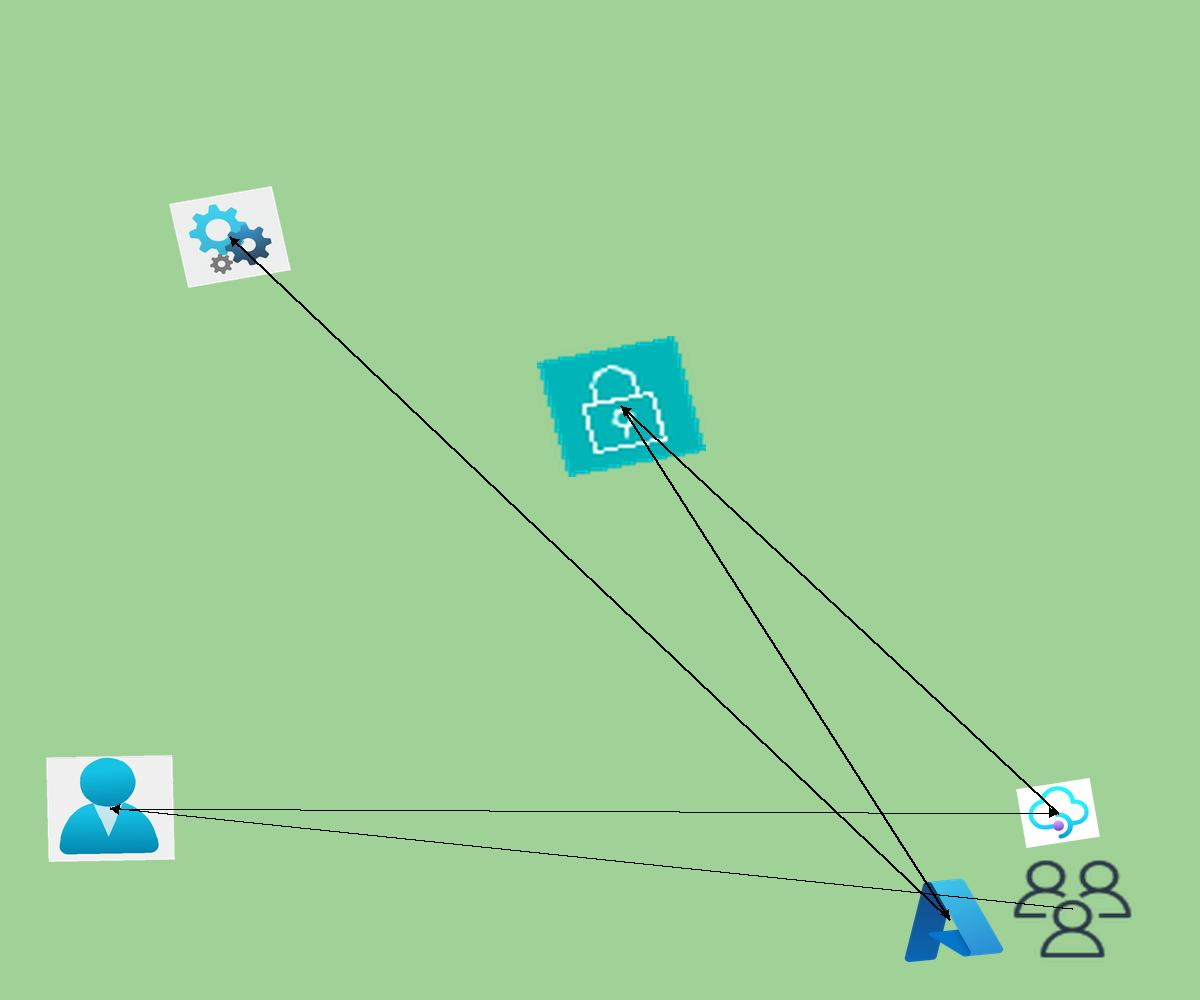AWS-Private-subnet: (537, 336, 706, 477)
AWS-Res_Users: (1006, 854, 1139, 964)
Azure_api: (169, 186, 291, 288)
Azure_api_gateway: (1016, 778, 1100, 848)
Azure_services: (889, 869, 1009, 969)
Azure_users: (46, 755, 175, 862)
